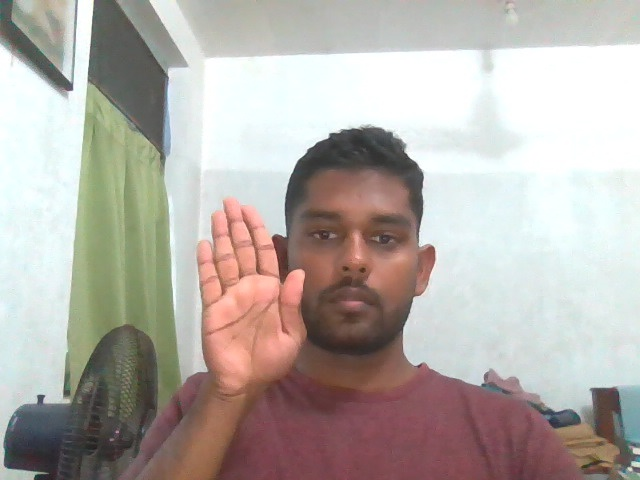bye: (185, 194, 316, 400)
